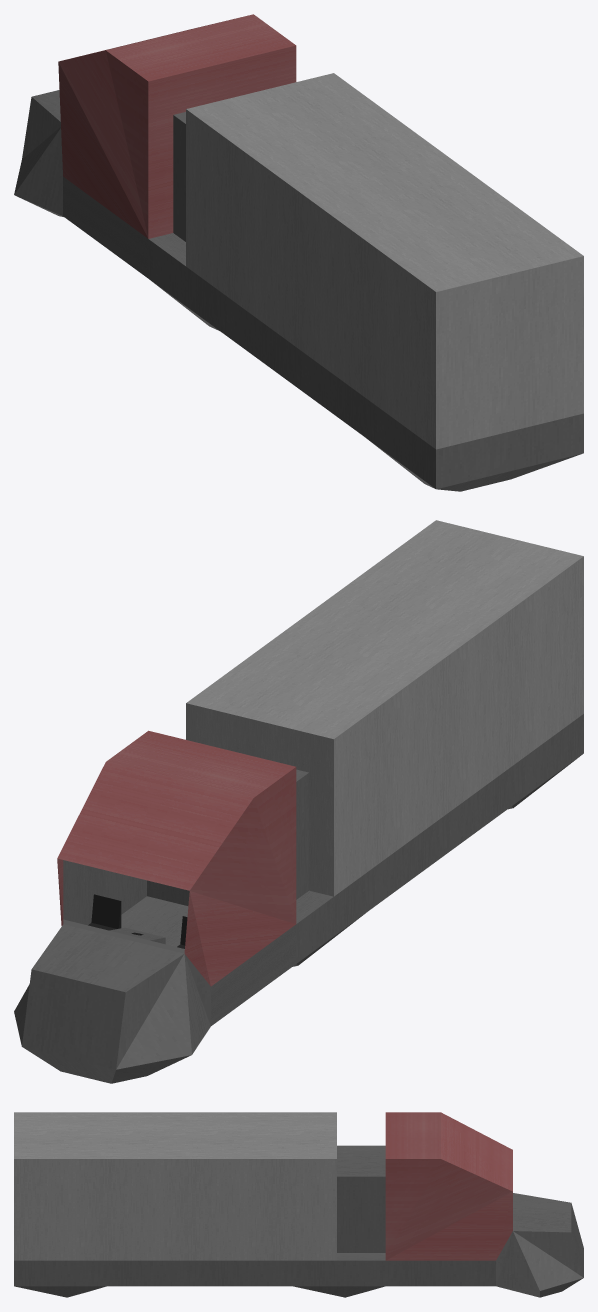
File: SpaceTruckV2.gltf
3 renders of one model, top to bottom at view 1: azimuth 30°, elevation 25°; view 2: azimuth 150°, elevation 25°; view 3: azimuth 270°, elevation 25°, orthographic. The views are drawn at different scales.
Parts seen in each view (by area): view 1: Truck; view 2: Truck; view 3: Truck.
Part boxes in pixels (x1,y1,x2,y2): Truck: [14, 14, 583, 491]; Truck: [14, 520, 583, 1083]; Truck: [14, 1112, 583, 1297].
Size of the model in its own units: 2.41 by 2.96 by 10.33.
Materials: 5 (3 with a texture image).
